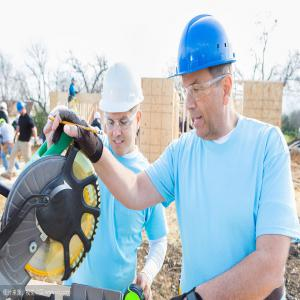blue: (172, 11, 243, 141), (16, 100, 27, 118), (72, 77, 77, 87)
white: (99, 60, 146, 157), (2, 102, 9, 113)
